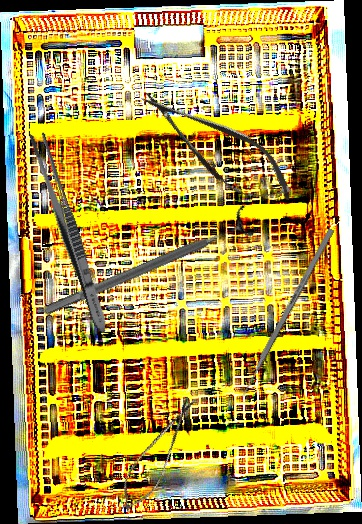Dressing Forceps: (25, 130, 114, 336)
Fixation Ring: (36, 203, 259, 327)
Micro Scissor: (127, 72, 306, 222), (110, 389, 204, 521)
Pusher: (235, 227, 335, 406)
